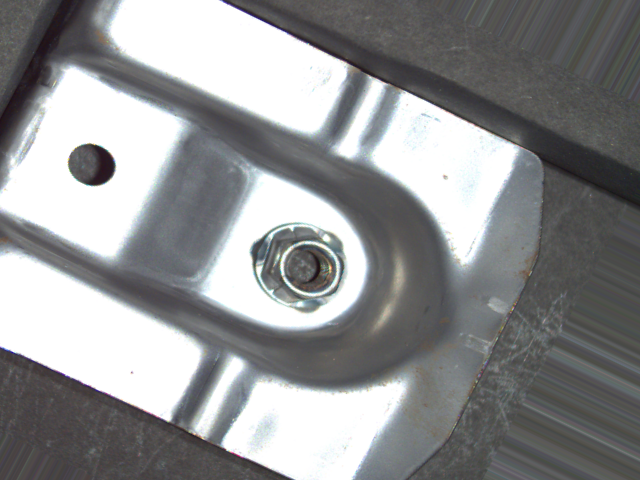good: (247, 218, 353, 317)
